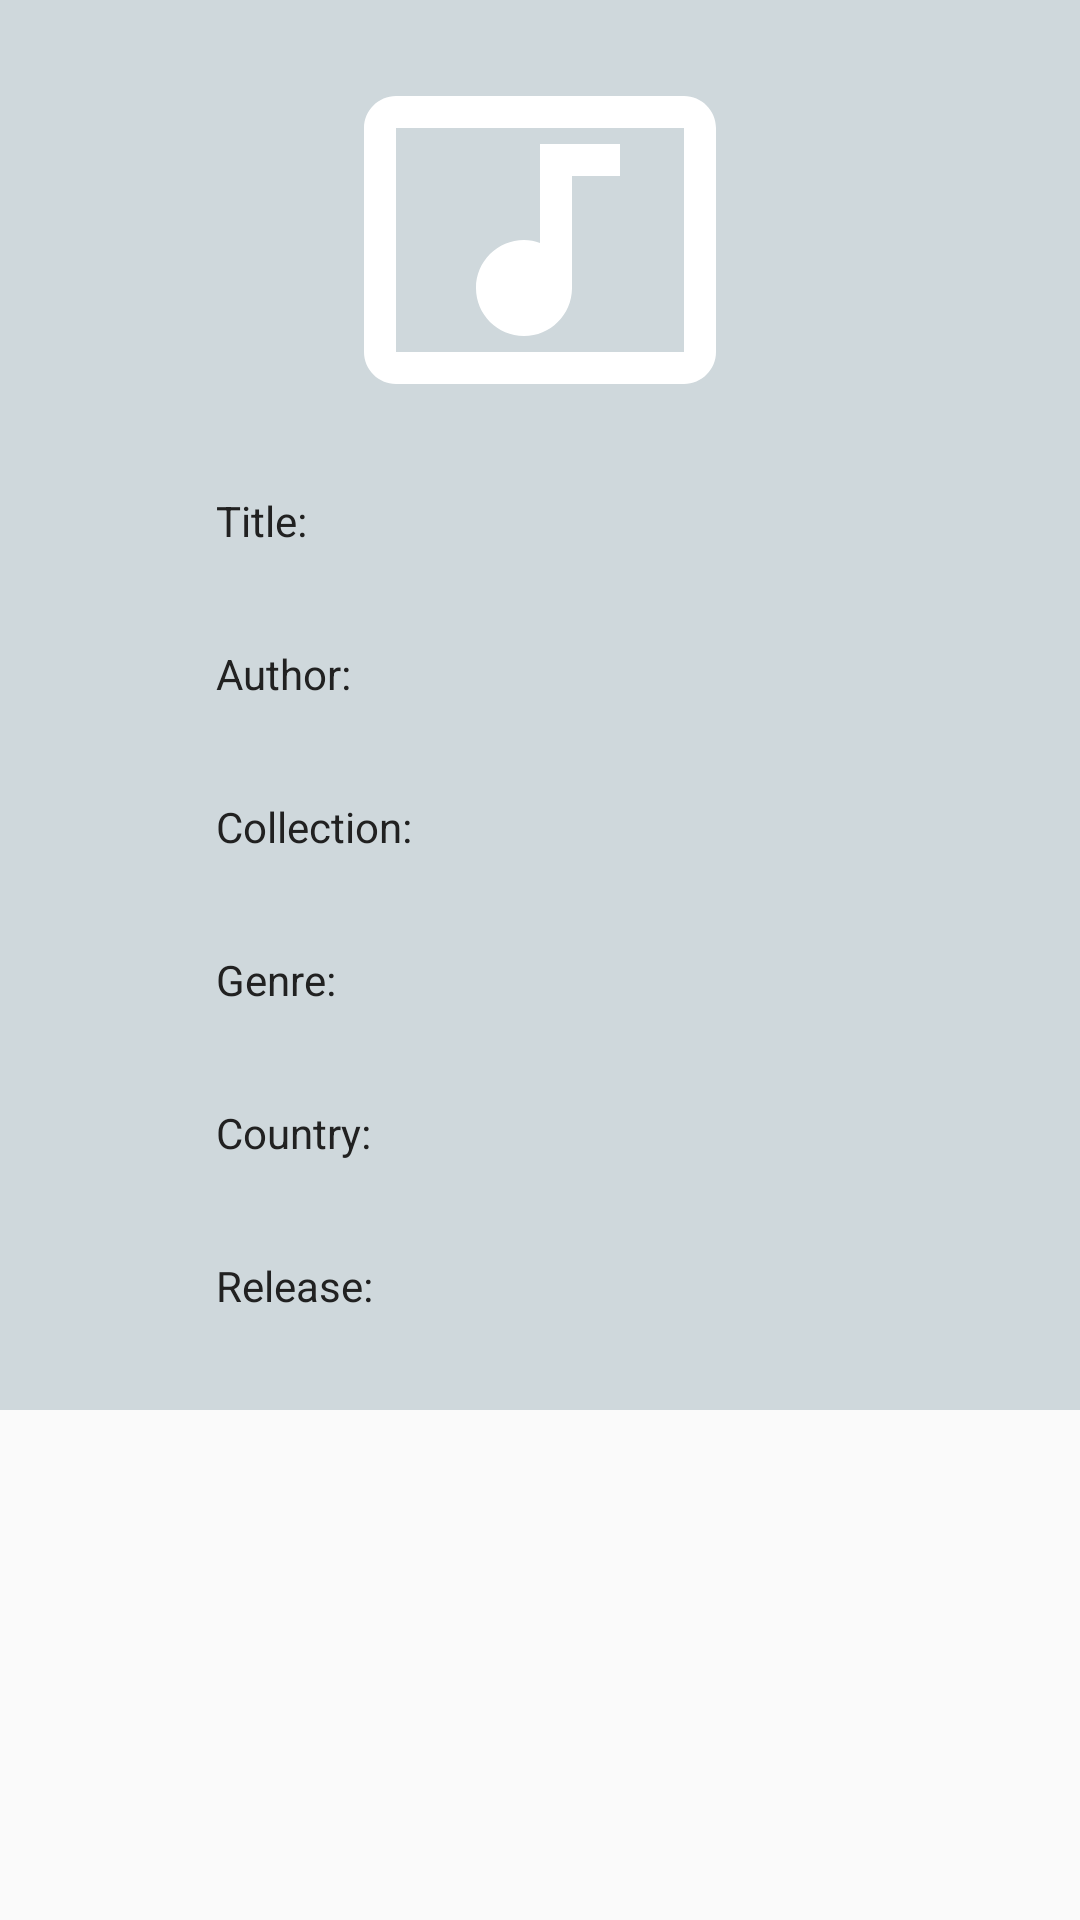

Where to tap for icons on this 1080px×1920px app screen, as [x,y]:
music video: [540,240]
